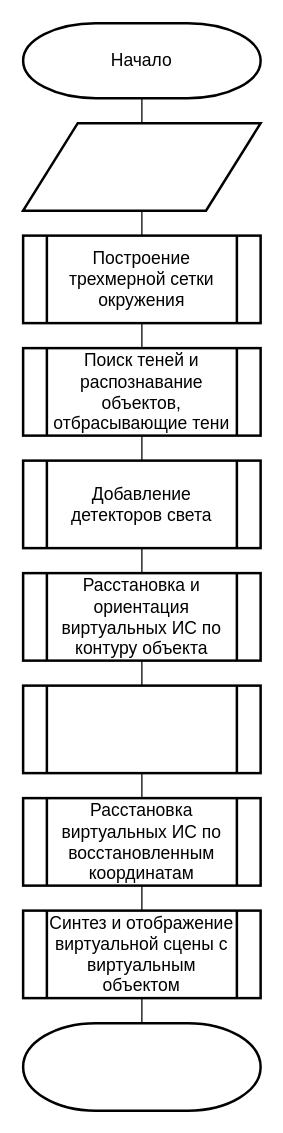
The diagram is 283 pixels wide and 1133 high, and some of its shapes have lost their labels. The shapes that lost their labels are listed below. From the top down, each one's centre as x and y in pixels, then its label:
[141,166]: HDR-изображение, карта глубины
[141,729]: Определение уровня пересечения контуров теней, определение координат
[141,1066]: Конец
